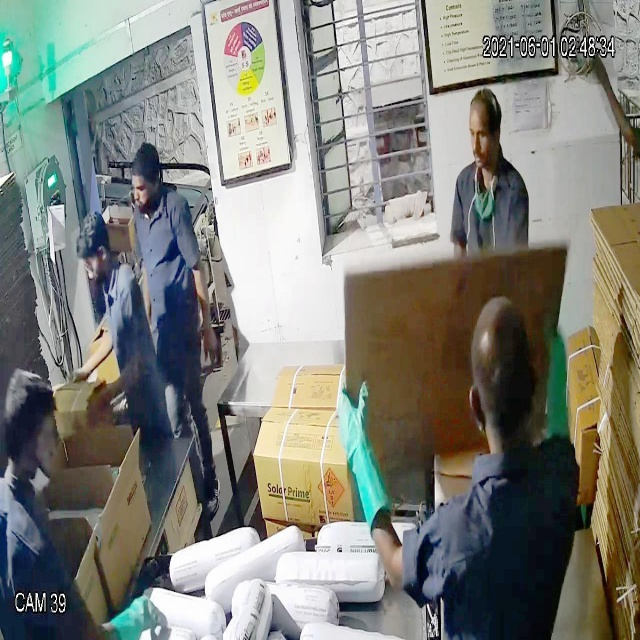Sin_gafas: (459, 117, 502, 151)
